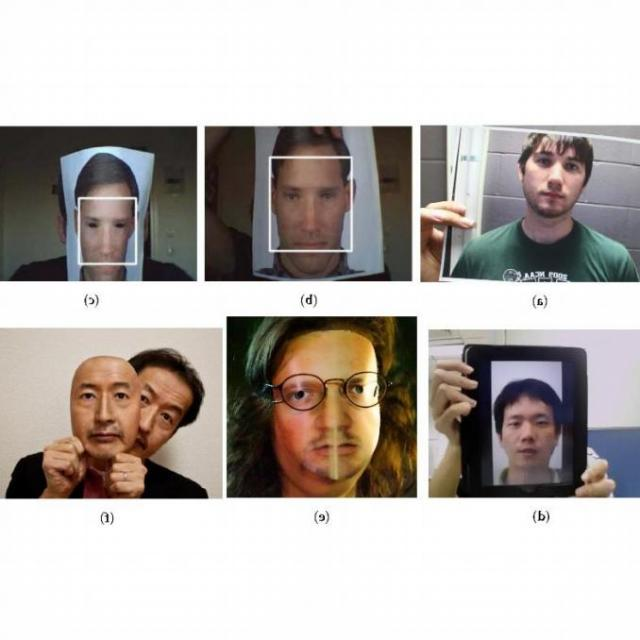device: (453, 341, 588, 497)
mask: (60, 143, 158, 282)
photo: (439, 127, 640, 283), (248, 126, 384, 278)
